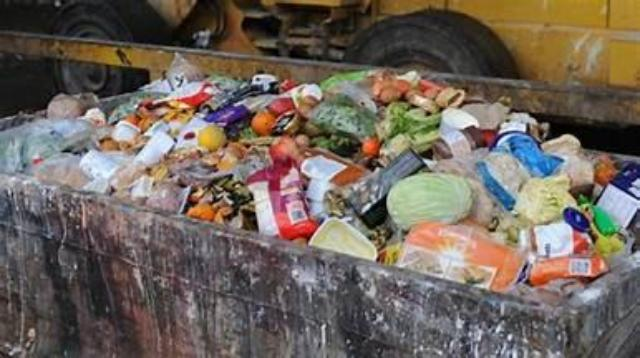Garbage: (0, 55, 640, 299)
Plastic_Bag: (398, 222, 525, 291), (0, 119, 92, 172), (492, 131, 564, 177), (530, 255, 609, 285), (166, 52, 204, 90)
Plastic_Container: (309, 218, 378, 261), (80, 149, 130, 179)
Plastic_wraper: (247, 159, 317, 239), (205, 105, 250, 127)
